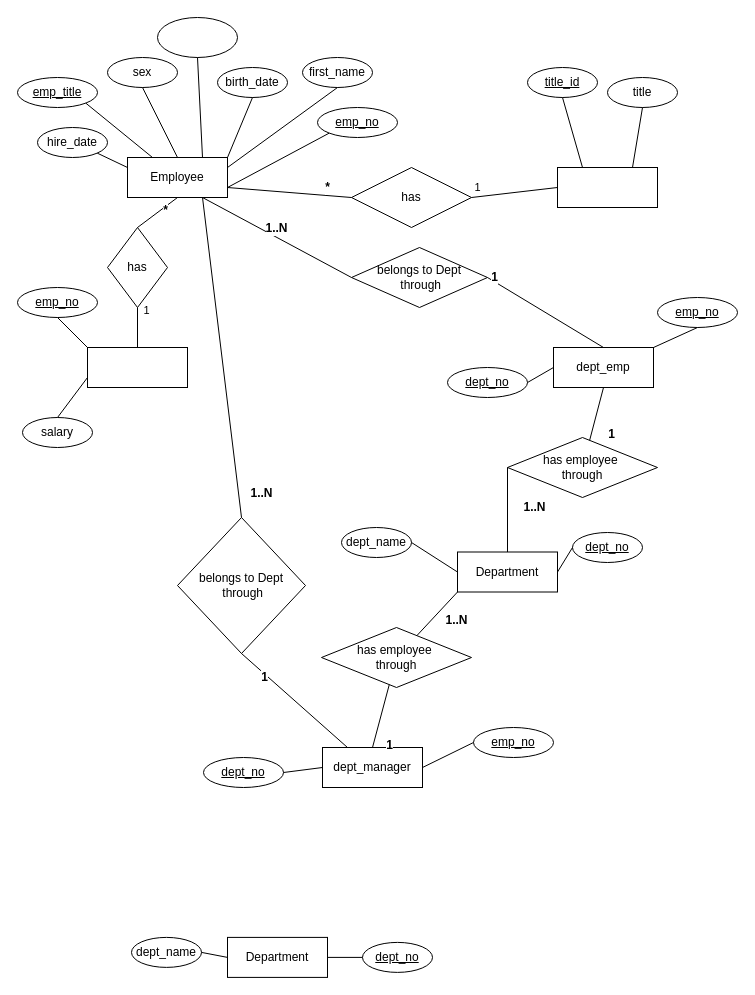
Some shapes in this 755 by 995 pixel diagram are drawn without their labels. Each missing label, with the box of its shape:
last_name: (156, 16, 238, 58)
Salaries: (86, 346, 188, 388)
titles: (556, 166, 658, 208)
